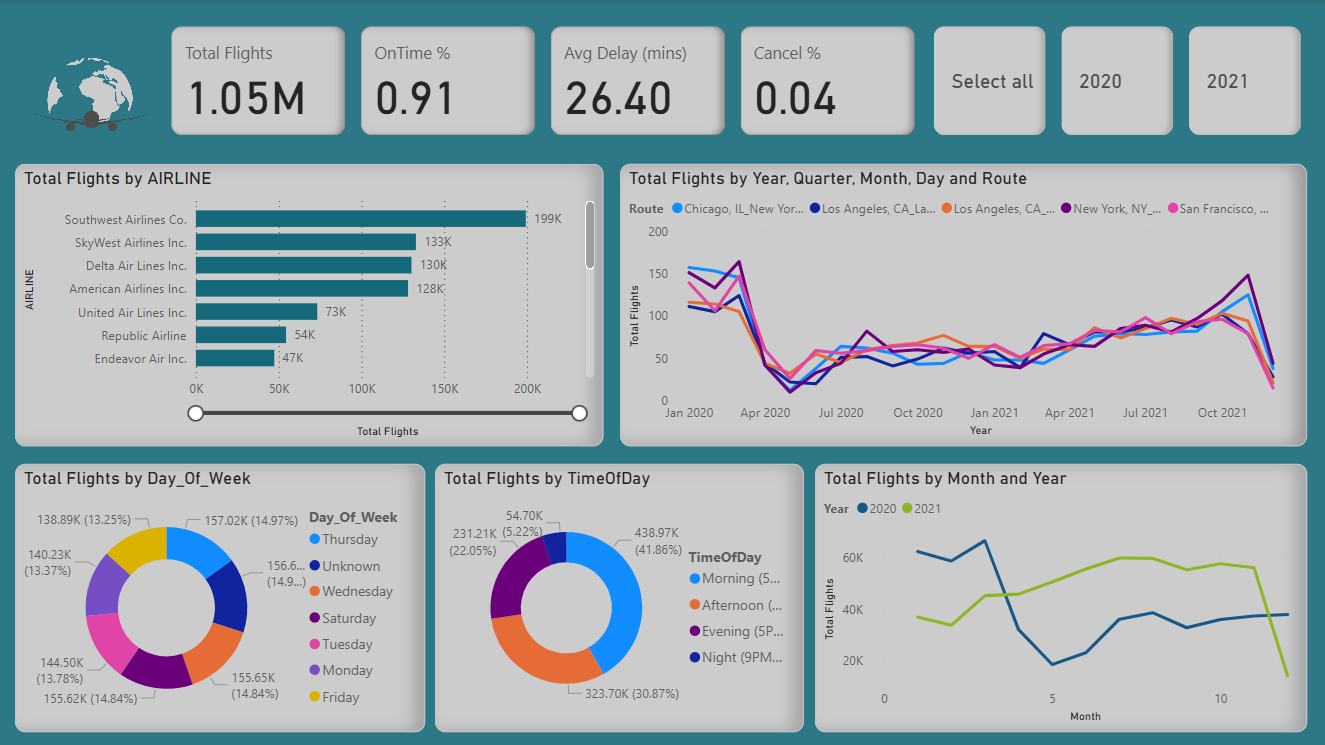

The dashboard page shown, as its layout file describes it:
{"tool":"powerbi","page":{"name":"Page_1","canvas":[1280,720],"ordinal":0},"visuals":[{"type":"image","box":[0,0,173.7,179.8],"z":0},{"type":"cardVisual","fields":{"Data":["Flights.Total Flights","Flights.OnTime %","Flights.Avg Delay (mins)","Flights.Cancel %"]},"box":[160.5,20.5,727.5,115.8],"z":1000},{"type":"clusteredBarChart","fields":{"Category":["Flights.AIRLINE"],"Y":["Flights.Total Flights"]},"box":[14.5,158,568.2,272.7],"z":2000},{"type":"lineChart","fields":{"Y":["Flights.Total Flights"],"Category":["Flights.YearMonth.Variation.Date Hierarchy.Year","Flights.YearMonth.Variation.Date Hierarchy.Quarter","Flights.YearMonth.Variation.Date Hierarchy.Month","Flights.YearMonth.Variation.Date Hierarchy.Day"],"Series":["Flights.Route"]},"box":[598.4,158,663.5,272.7],"z":3000},{"type":"lineChart","fields":{"Category":["Flights.Month"],"Y":["Flights.Total Flights"],"Series":["Flights.Year"]},"box":[786.6,447.6,475.3,259.4],"z":4000},{"type":"donutChart","fields":{"Category":["Flights.DayName"],"Y":["Flights.Total Flights"]},"box":[14.5,447.6,395.7,259.4],"z":5000},{"type":"donutChart","fields":{"Category":["Flights.TimeOfDay"],"Y":["Flights.Total Flights"]},"box":[419.8,447.6,355.9,259.4],"z":6000},{"type":"advancedSlicerVisual","fields":{"Values":["Flights.Year"]},"box":[896.4,20.5,365.6,115.8],"z":7000}]}

Visuals, with their boxes in screenshot pixels (x1, y1, x2, y2), scaled from the page's 1280x720 canvas onto the 1325x745 screenshot:
image: {"left": 0, "top": 0, "right": 180, "bottom": 186}
cardVisual - Flights.Total Flights x Flights.OnTime %: {"left": 166, "top": 21, "right": 919, "bottom": 141}
clusteredBarChart - Flights.AIRLINE x Flights.Total Flights: {"left": 15, "top": 163, "right": 603, "bottom": 446}
lineChart - Flights.Total Flights x Flights.YearMonth.Variation.Date Hierarchy.Year: {"left": 619, "top": 163, "right": 1306, "bottom": 446}
lineChart - Flights.Month x Flights.Total Flights: {"left": 814, "top": 463, "right": 1306, "bottom": 732}
donutChart - Flights.DayName x Flights.Total Flights: {"left": 15, "top": 463, "right": 425, "bottom": 732}
donutChart - Flights.TimeOfDay x Flights.Total Flights: {"left": 435, "top": 463, "right": 803, "bottom": 732}
advancedSlicerVisual - Flights.Year: {"left": 928, "top": 21, "right": 1306, "bottom": 141}
